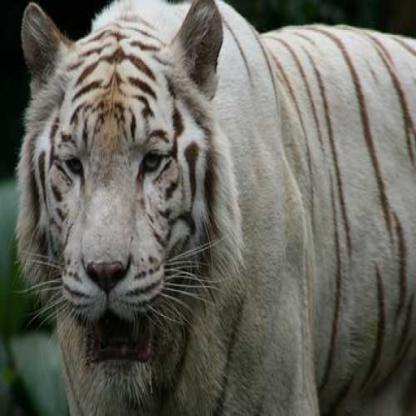Tiger: (1, 0, 415, 414)
